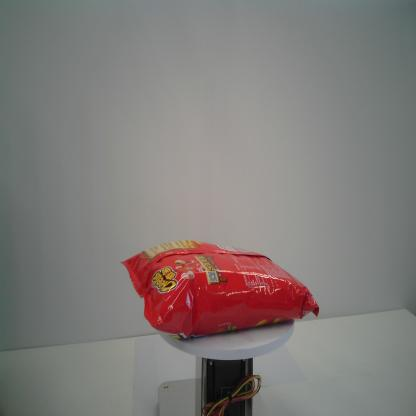Puffed Food: (119, 238, 321, 343)
